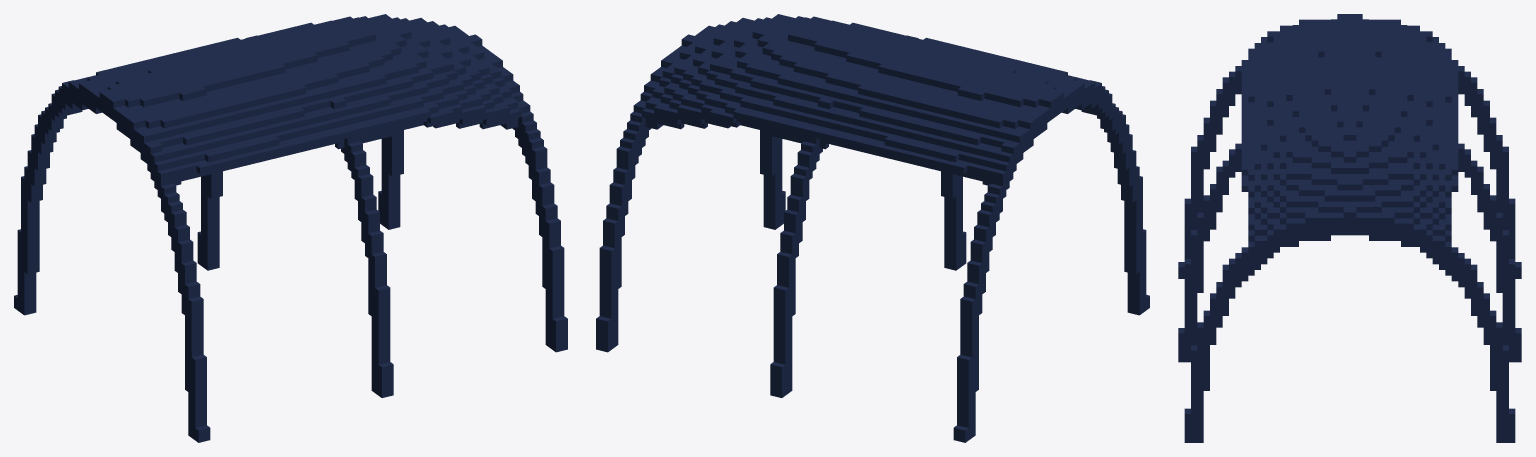
The model's file is police_helicopter_roof.glb.
3 renders of one model, left to right at view 1: azimuth 30°, elevation 25°; view 2: azimuth 150°, elevation 25°; view 3: azimuth 270°, elevation 25°, orthographic. The views are drawn at different scales.
Visible parts, largest first — view 1: body:compound; view 2: body:compound; view 3: body:compound.
Boxes of the visible parts, bbox=[...] form: body:compound: bbox=[14, 14, 567, 442]; body:compound: bbox=[596, 14, 1149, 442]; body:compound: bbox=[1178, 14, 1521, 442].
Bounding box in the file's own units: 1.97 × 1.41 × 1.69.
